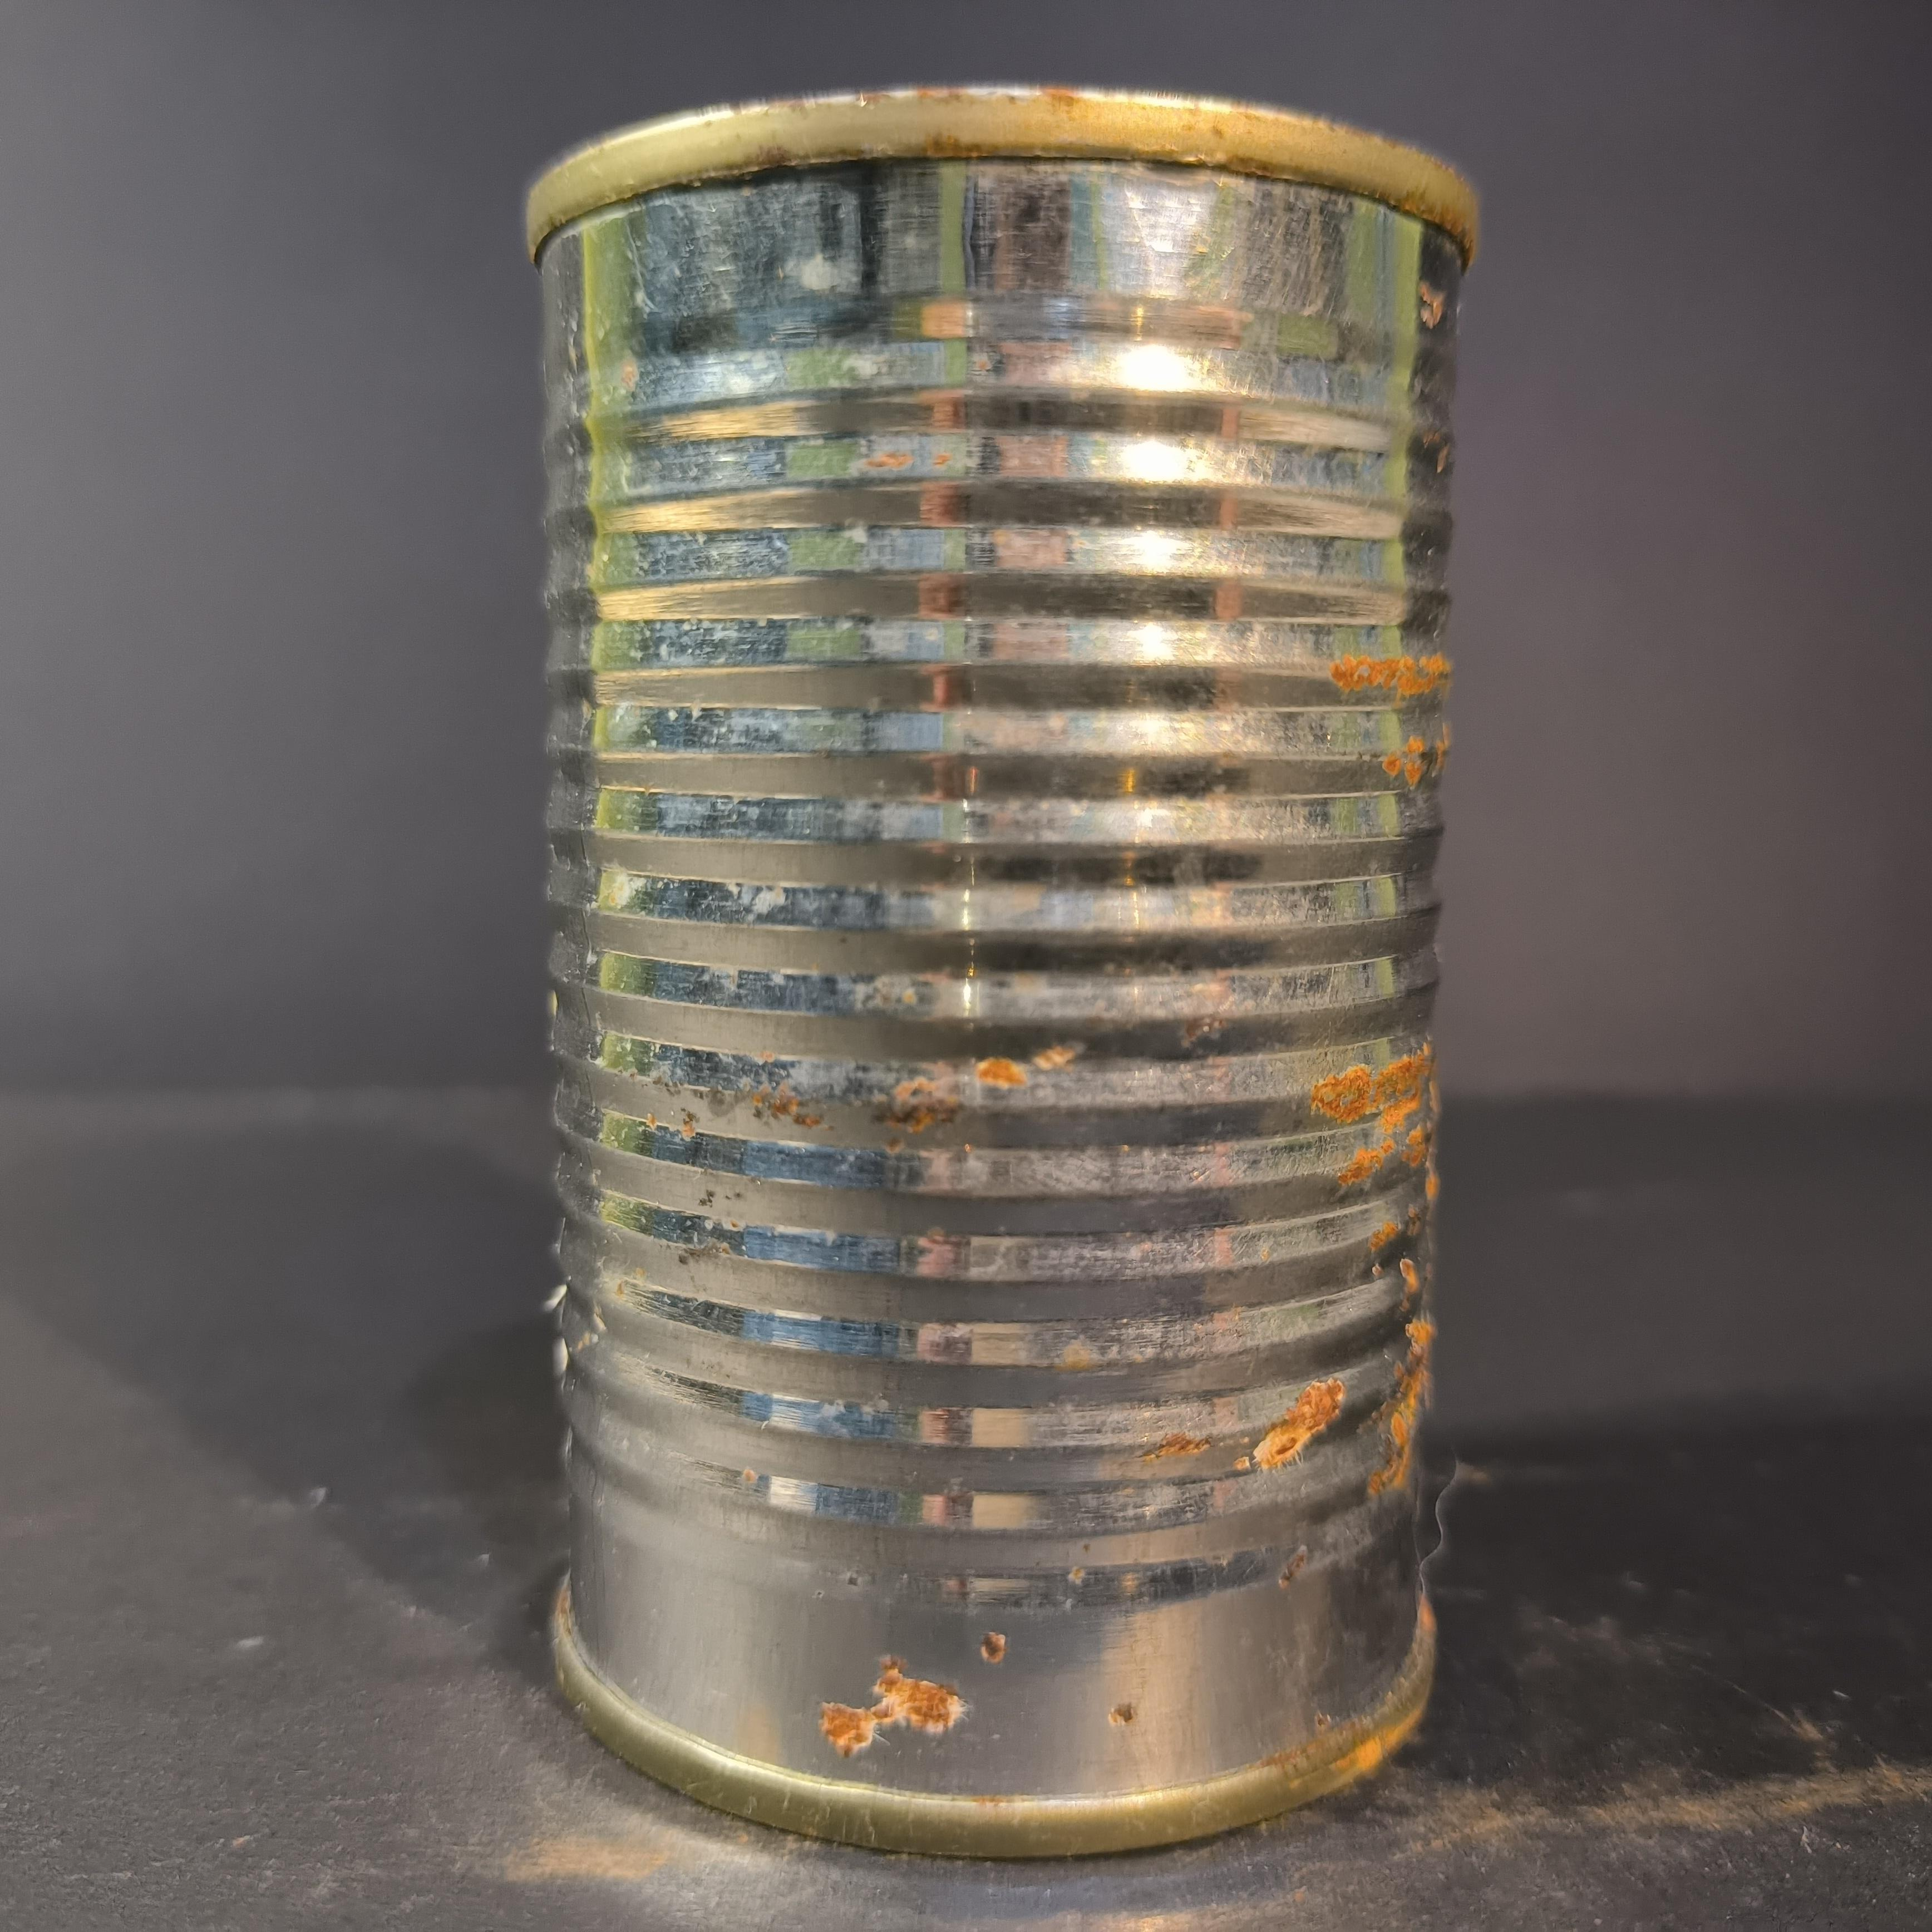Rusted: (511, 58, 1483, 1845)
